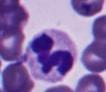N: (30, 28, 78, 80)
